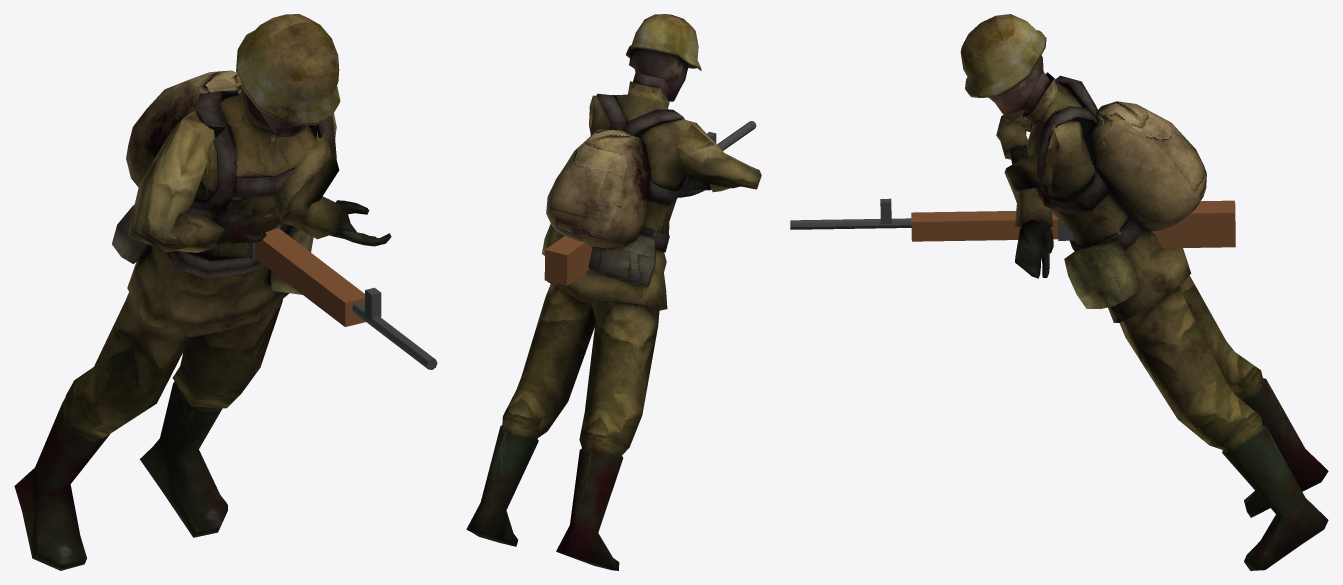
The model's file is soviet_ww2_soldier_death_01.glb.
3 renders of one model, left to right at view 1: azimuth 30°, elevation 25°; view 2: azimuth 150°, elevation 25°; view 3: azimuth 270°, elevation 25°, orthographic. The views are drawn at different scales.
Visible parts, largest first — view 1: final_Static, SovietRifle_Generated; view 2: final_Static, SovietRifle_Generated; view 3: final_Static, SovietRifle_Generated.
Boxes of the visible parts, x1,y1,x2,y2 form: final_Static: (14,14,391,570); SovietRifle_Generated: (246,225,437,369); final_Static: (466,14,761,570); SovietRifle_Generated: (544,121,756,285); final_Static: (960,14,1328,570); SovietRifle_Generated: (790,198,1235,248).
Bounding box in the file's own units: 0.67 × 1.59 × 1.49.
3 materials, 1 textured.
